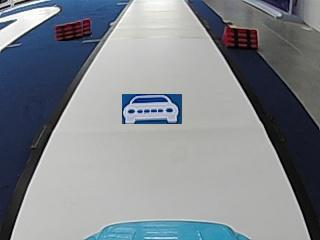bomb: (221, 25, 259, 48)
